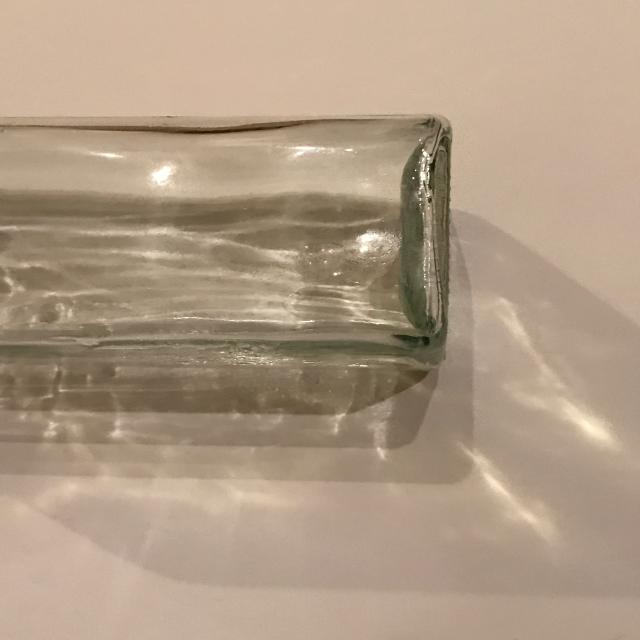glass: (0, 112, 453, 355)
